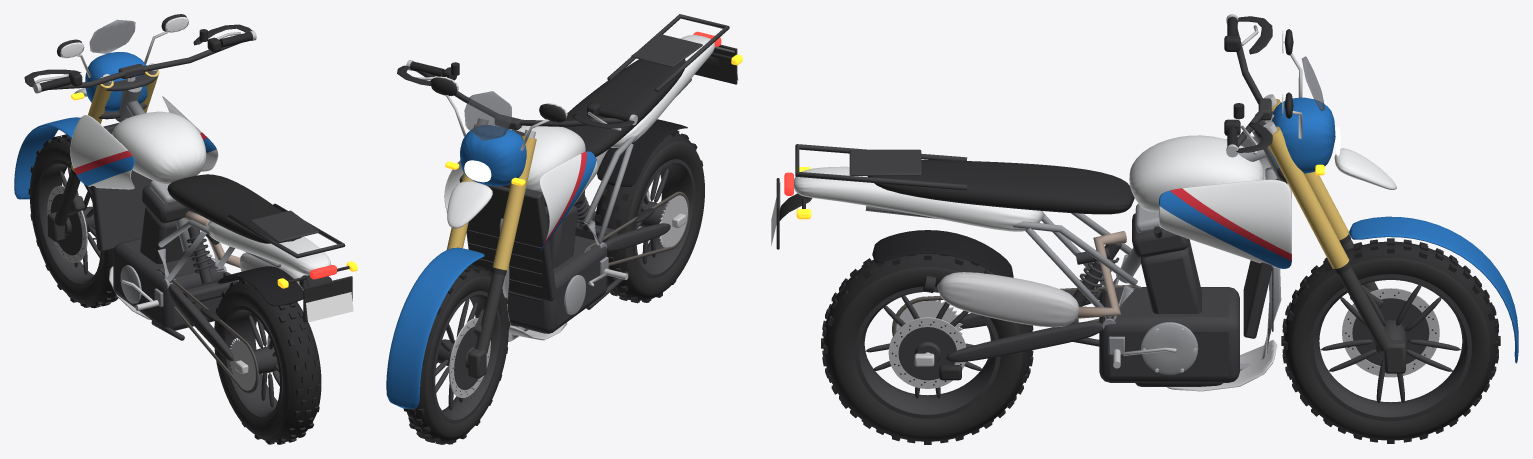
The picture shows the model from 3 angles, left to right: view 1: azimuth 30°, elevation 25°; view 2: azimuth 150°, elevation 25°; view 3: azimuth 270°, elevation 25°; orthographic projection. The views are drawn at different scales.
Parts seen in each view (by area): view 1: body, wheel_rear, wheel_front, swingarm, steer, fork_lower; view 2: body, wheel_rear, wheel_front, fork_lower, steer, swingarm; view 3: body, wheel_front, wheel_rear, swingarm, steer, fork_lower.
Boxes of the visible parts, left/top/right/bottom form: body: left=57, top=14, right=357, bottom=340; wheel_rear: left=214, top=278, right=321, bottom=444; wheel_front: left=28, top=134, right=118, bottom=308; swingarm: left=157, top=266, right=303, bottom=393; steer: left=24, top=24, right=256, bottom=172; fork_lower: left=14, top=117, right=84, bottom=241; body: left=430, top=14, right=742, bottom=341; wheel_rear: left=594, top=130, right=704, bottom=303; wheel_front: left=403, top=264, right=509, bottom=444; fork_lower: left=386, top=247, right=506, bottom=408; steer: left=397, top=60, right=637, bottom=270; swingarm: left=575, top=119, right=689, bottom=266; body: left=771, top=29, right=1396, bottom=391; wheel_front: left=1281, top=238, right=1500, bottom=443; wheel_rear: left=821, top=253, right=1033, bottom=444; swingarm: left=872, top=230, right=1141, bottom=380; steer: left=1224, top=14, right=1349, bottom=268; fork_lower: left=1334, top=216, right=1518, bottom=373.
Size of the model in its own units: 0.9844 by 1.29 by 2.29.
